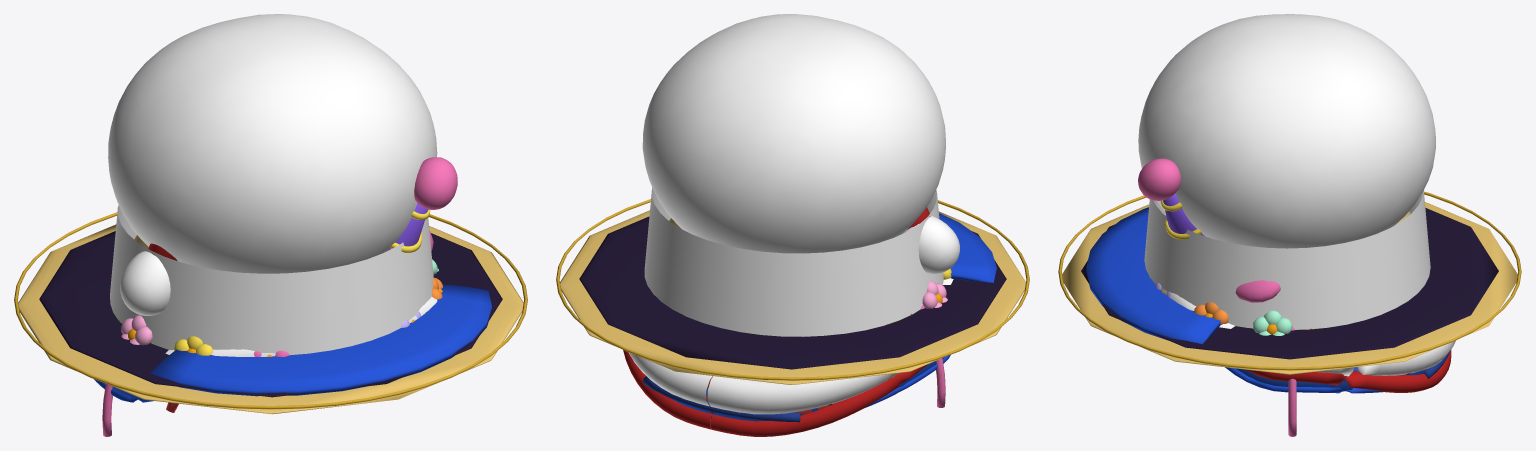
Rendered from props-h.glb.
The picture shows the model from 3 angles, left to right: view 1: azimuth 30°, elevation 25°; view 2: azimuth 150°, elevation 25°; view 3: azimuth 270°, elevation 25°; orthographic projection. The views are drawn at different scales.
Visible parts, largest first — view 1: h-chef, h-straw, h-cap, h-witch, h-santa, h-party, h-flowers; view 2: h-chef, h-witch, h-straw, h-santa, h-beanie, h-cap, h-flowers; view 3: h-chef, h-witch, h-straw, h-cap, h-beanie, h-party, h-santa, h-flowers, h-bow, h-bunny.
Part boxes in pixels (x1,y1,x2,y2): h-chef: (108,14,437,354); h-straw: (14,212,527,414); h-cap: (94,284,491,402); h-witch: (39,231,502,397); h-santa: (120,243,437,356); h-party: (387,157,457,252); h-flowers: (111,259,442,356); h-chef: (642,14,945,336); h-witch: (579,216,1006,369); h-straw: (556,199,1029,384); h-santa: (628,207,959,414); h-beanie: (623,314,928,436); h-cap: (643,213,996,422); h-flowers: (892,268,951,322); h-chef: (1138,14,1435,329); h-witch: (1081,208,1498,359); h-straw: (1058,191,1521,374); h-cap: (1086,207,1449,393); h-beanie: (1245,328,1451,392); h-party: (1138,158,1204,239); h-santa: (1161,288,1455,376); h-flowers: (1155,282,1329,335); h-bow: (1235,280,1280,302); h-bunny: (1288,327,1296,436).
Size of the model in its own units: 0.665 by 0.5254 by 0.665.
